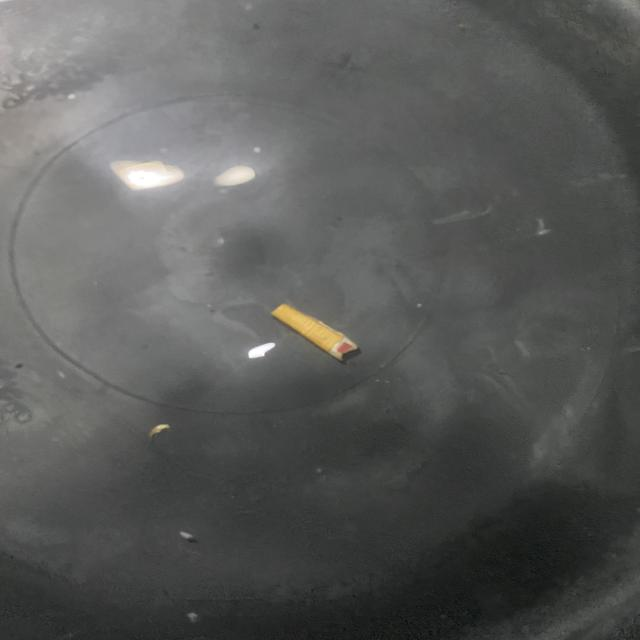Cigarette Filter: (261, 287, 370, 374)
